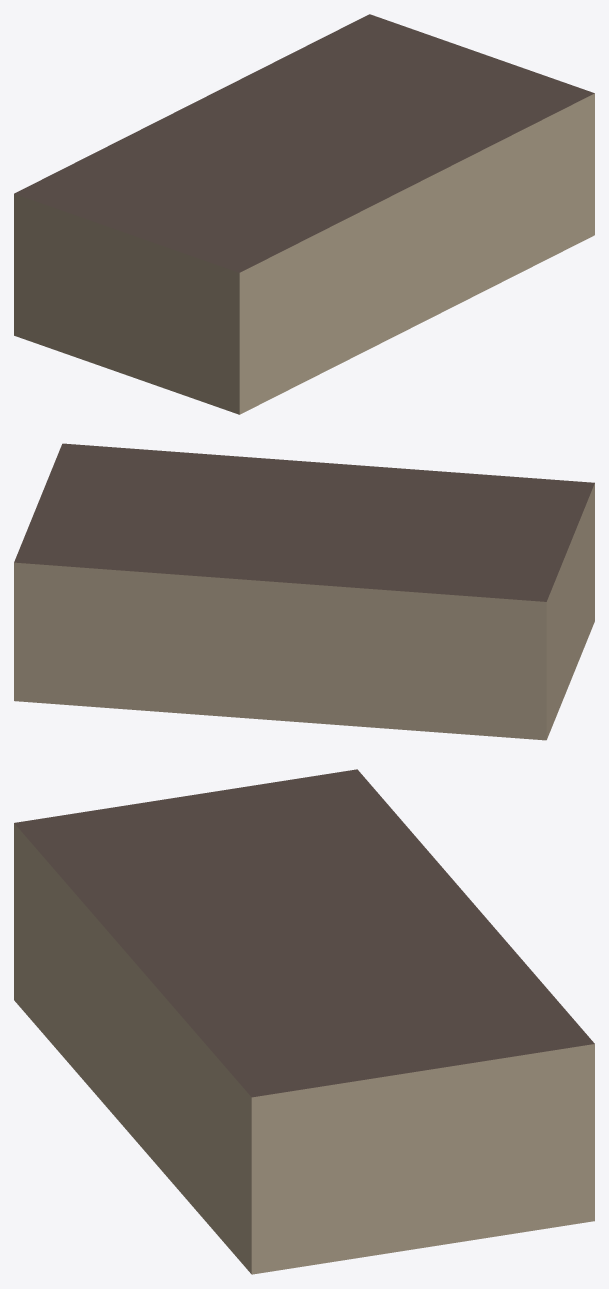
3 renders of one model, top to bottom at view 1: azimuth 30°, elevation 25°; view 2: azimuth 150°, elevation 25°; view 3: azimuth 270°, elevation 25°, orthographic. The views are drawn at different scales.
Visible parts, largest first — view 1: HP-w859078935; view 2: HP-w859078935; view 3: HP-w859078935.
Boxes of the visible parts, x1,y1,x2,y2 form: HP-w859078935: [14, 14, 594, 414]; HP-w859078935: [14, 443, 594, 740]; HP-w859078935: [14, 769, 594, 1274].
Bounding box in the file's own units: 35.74 × 9 × 26.74.
